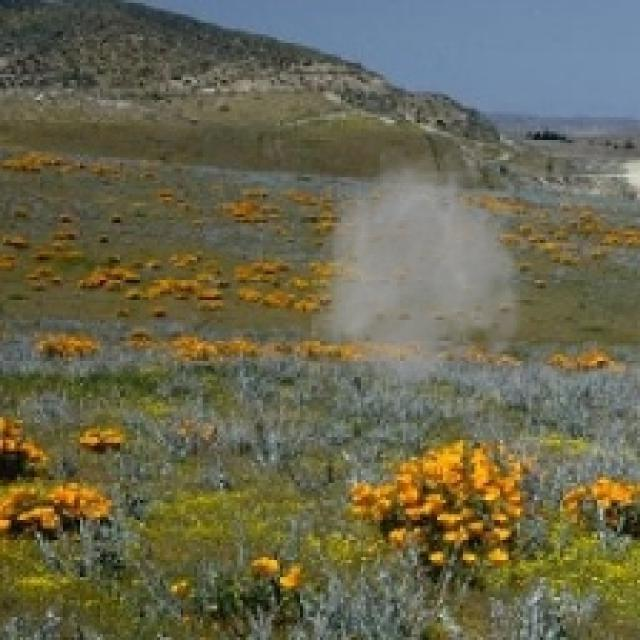Smoke: (311, 140, 540, 397)
